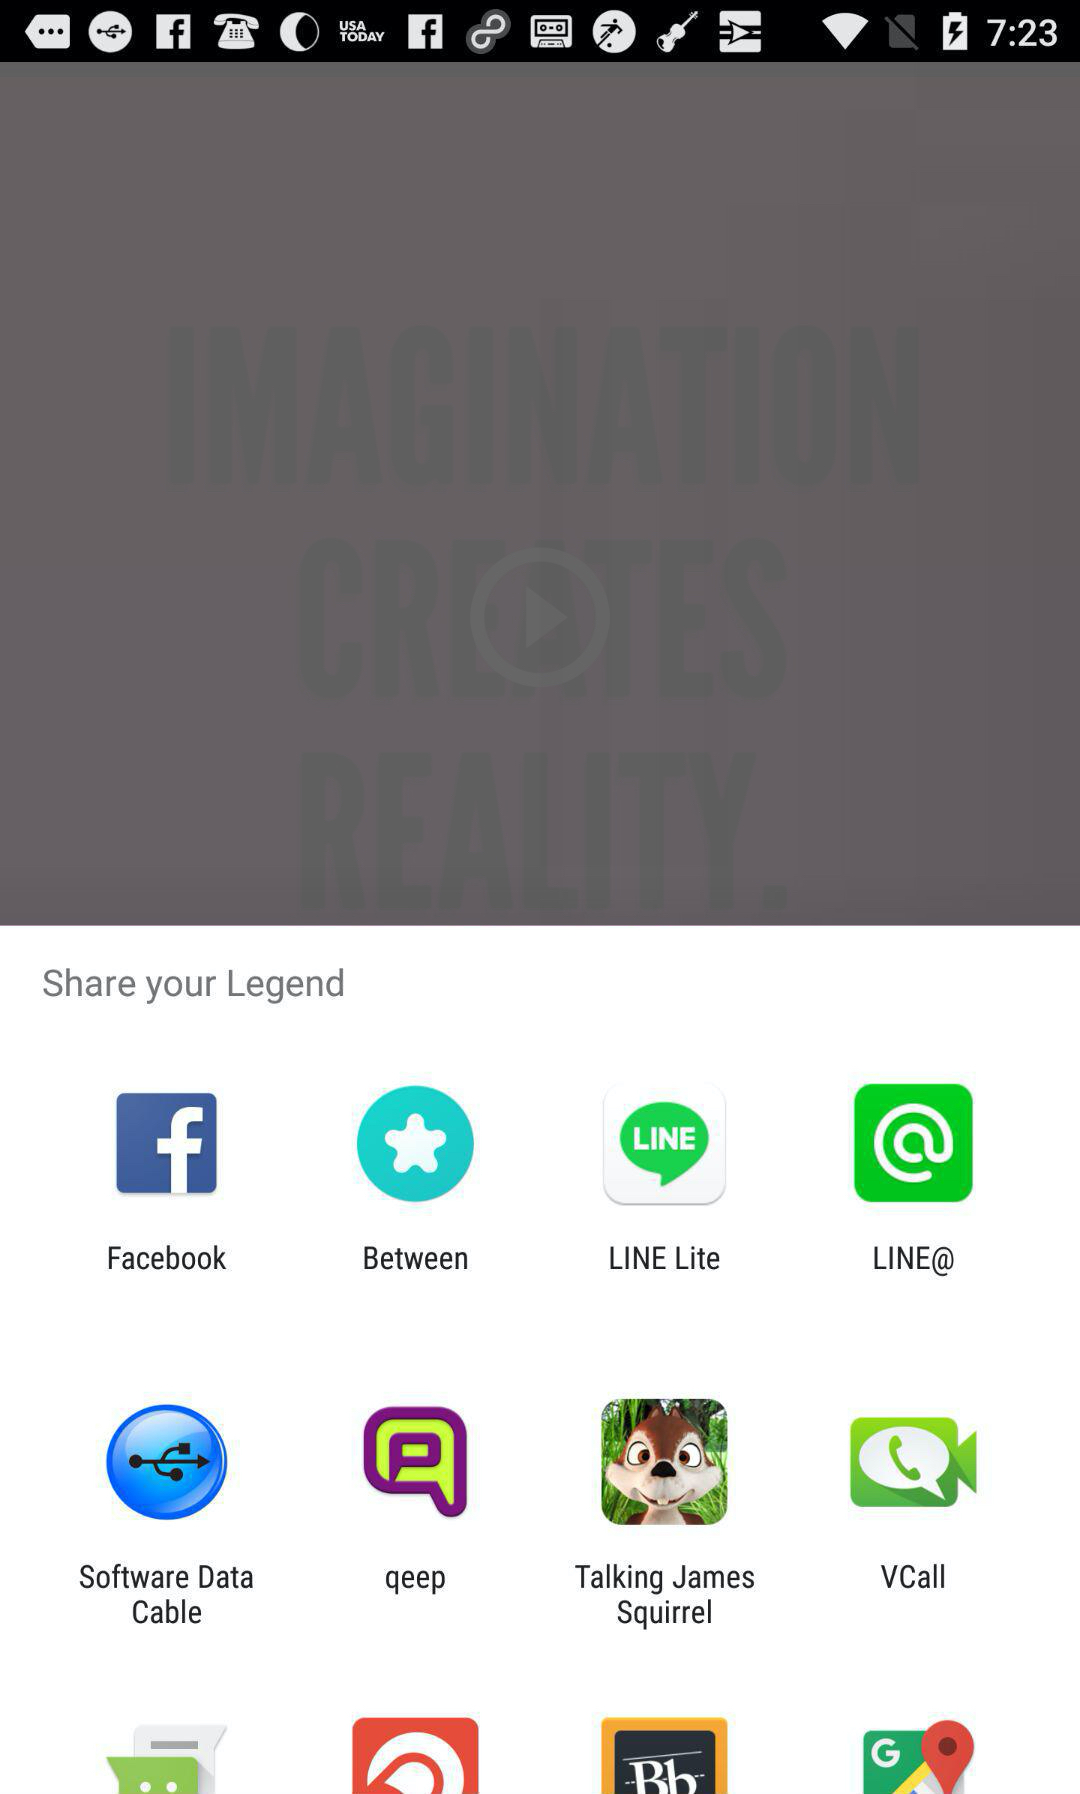Icon: (117, 1092, 219, 1196)
Image: (600, 1398, 729, 1526), (602, 1082, 726, 1207), (855, 1083, 974, 1205), (106, 1403, 229, 1521), (357, 1085, 475, 1203), (363, 1404, 469, 1518), (849, 1416, 978, 1508), (601, 1717, 728, 1794), (352, 1717, 479, 1794), (106, 1722, 229, 1794), (862, 1720, 978, 1794)
Modal: (1, 926, 1079, 1794)
Text: (573, 1562, 756, 1631), (44, 967, 346, 1006), (79, 1562, 255, 1626), (108, 1243, 228, 1272), (609, 1246, 721, 1271), (364, 1246, 469, 1272), (872, 1244, 954, 1278), (879, 1562, 947, 1590), (386, 1568, 447, 1595)
UpperTaskBar: (1, 1, 1080, 64)
